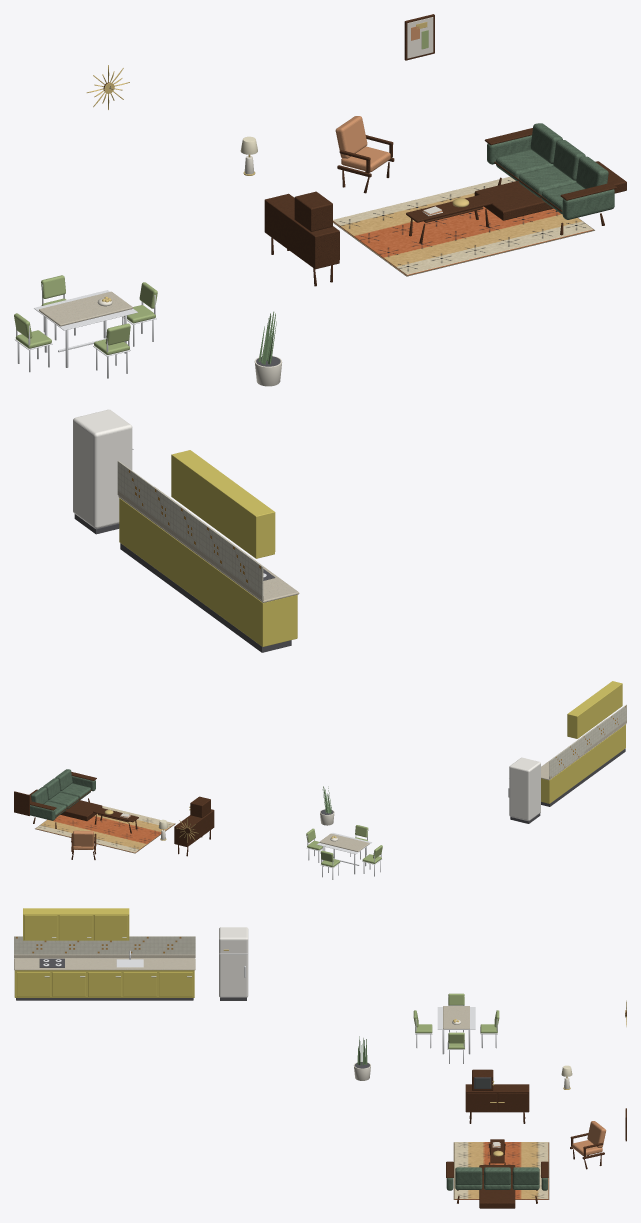
Rendered from interior-hero-teal-living-kitchen.glb.
3 views of the same model, one above another, from view 1: azimuth 30°, elevation 25°; view 2: azimuth 150°, elevation 25°; view 3: azimuth 270°, elevation 25° (orthographic). The views are drawn at different scales.
Visible parts, largest first — view 1: area-rug-pile, kitchen-carcass, kitchen-wall-carcass, fridge-body, kitchen-backsplash, tv-unit-carcass, sofa-frame, dinette-top, tv-unit-tv-body, kitchen-toe-kick, kitchen-worktop, sofa-arm-r (+3 smaller); view 2: area-rug-pile, kitchen-carcass, fridge-body, kitchen-wall-carcass, kitchen-backsplash, tv-unit-carcass, sofa-frame, dinette-top, tv-unit-tv-body, wall-art-frame, armchair-back, kitchen-toe-kick (+3 smaller); view 3: kitchen-backsplash, area-rug-pile, fridge-body, kitchen-worktop, kitchen-carcass, kitchen-wall-carcass, sofa-frame, kitchen-wall-door-0, kitchen-wall-door-1, kitchen-wall-door-2, kitchen-door-0, kitchen-door-1 (+12 smaller).
Part boxes in pixels (box(x1,y1,x2,y2)): area-rug-pile: box(333, 176, 593, 275); kitchen-carcass: box(119, 498, 297, 646); kitchen-wall-carcass: box(171, 450, 274, 558); fridge-body: box(73, 409, 132, 528); kitchen-backsplash: box(117, 460, 263, 599); tv-unit-carcass: box(264, 193, 339, 269); sofa-frame: box(474, 161, 626, 220); dinette-top: box(39, 291, 132, 326); tv-unit-tv-body: box(294, 191, 332, 231); kitchen-toe-kick: box(120, 543, 291, 652); kitchen-worktop: box(118, 486, 299, 602); sofa-arm-r: box(562, 189, 614, 219); area-rug-pile: box(35, 806, 174, 852); kitchen-carcass: box(541, 724, 625, 803); fridge-body: box(509, 757, 540, 820); kitchen-wall-carcass: box(567, 681, 622, 738); kitchen-backsplash: box(549, 704, 626, 778); tv-unit-carcass: box(174, 809, 214, 846); sofa-frame: box(29, 789, 102, 821); dinette-top: box(319, 833, 369, 851); tv-unit-tv-body: box(190, 796, 210, 817); wall-art-frame: box(14, 791, 29, 815); armchair-back: box(73, 830, 93, 846); kitchen-toe-kick: box(541, 748, 625, 806); kitchen-backsplash: box(14, 936, 195, 954); area-rug-pile: box(454, 1142, 548, 1199); fridge-body: box(219, 927, 248, 997); kitchen-worktop: box(14, 958, 195, 970); kitchen-carcass: box(14, 970, 194, 997); kitchen-wall-carcass: box(23, 908, 129, 940); sofa-frame: box(479, 1165, 515, 1208); kitchen-wall-door-0: box(24, 915, 57, 940); kitchen-wall-door-1: box(59, 915, 92, 940); kitchen-wall-door-2: box(94, 915, 127, 940); kitchen-door-0: box(17, 972, 50, 996); kitchen-door-1: box(52, 972, 85, 996).
Bounding box in the file's own units: 13.09 × 2.53 × 14.99.
19 materials, 7 textured.
